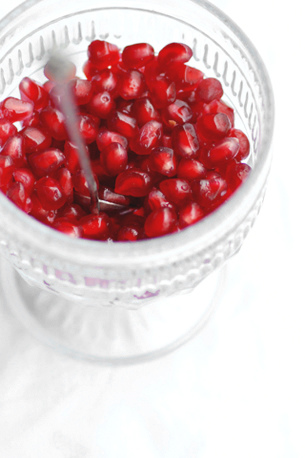pomogranate: (0, 40, 252, 245)
